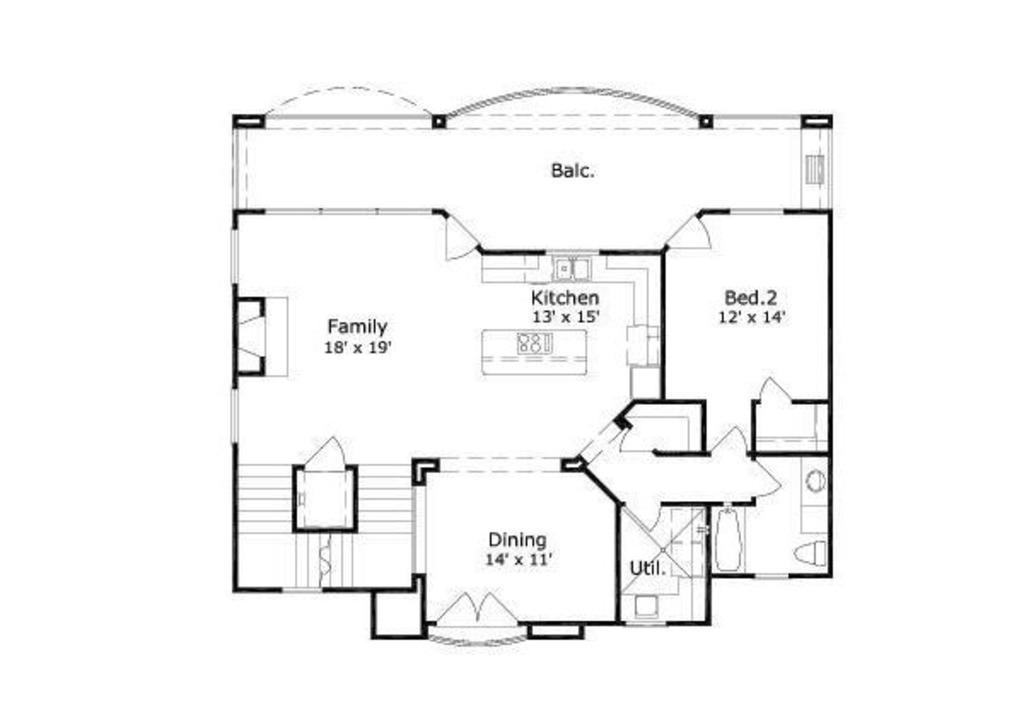door: (434, 590, 522, 629), (659, 218, 716, 253), (442, 217, 482, 261), (706, 421, 750, 457), (751, 456, 783, 500), (752, 372, 792, 407), (624, 503, 665, 533), (307, 436, 346, 464)
kitchen_bar: (477, 326, 591, 378)
large_sink: (786, 536, 828, 570)
small_sink: (797, 457, 828, 506)
stairs: (237, 460, 413, 592)
tub: (710, 505, 744, 574)
twin_sink: (546, 251, 594, 287)
windows: (229, 388, 240, 450), (231, 229, 242, 286)
